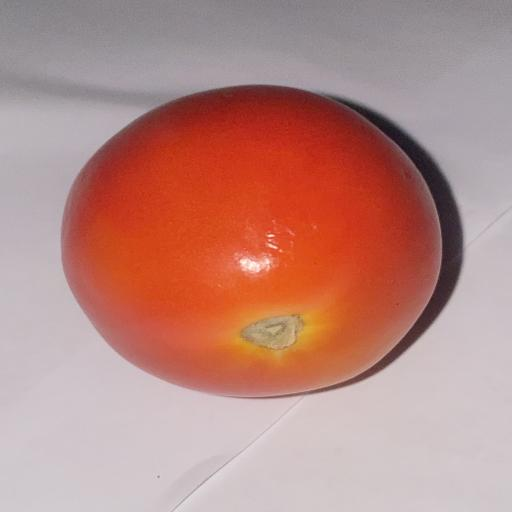ripe: (62, 86, 441, 396)
